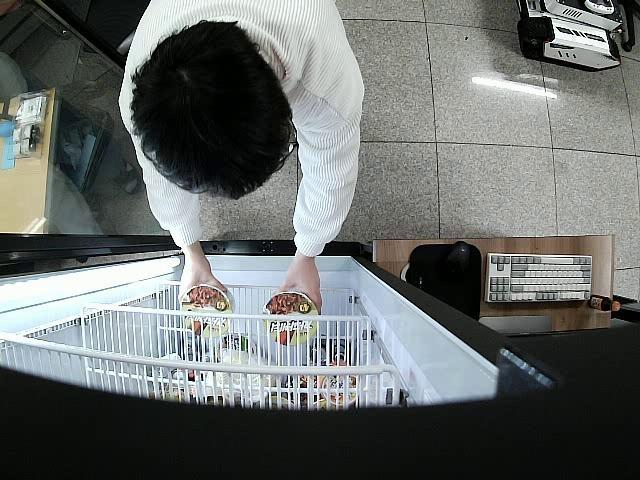03_chapagetti_L: (260, 292, 320, 348), (182, 286, 234, 338)
